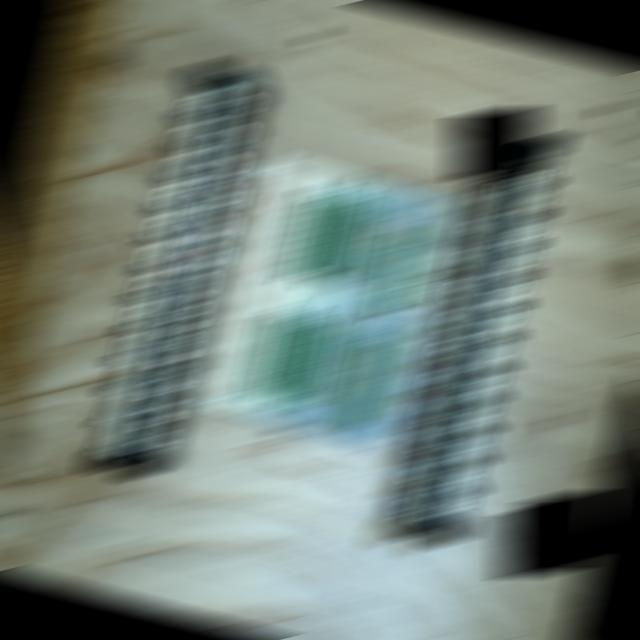Flathead_Block: (396, 126, 563, 546)
Phillips_Block: (85, 59, 257, 480)
Terminal_1: (373, 224, 425, 314), (345, 334, 397, 423)
Terminal_2: (325, 198, 376, 284), (301, 192, 352, 276), (294, 323, 345, 407), (245, 308, 295, 393), (270, 317, 320, 401)
